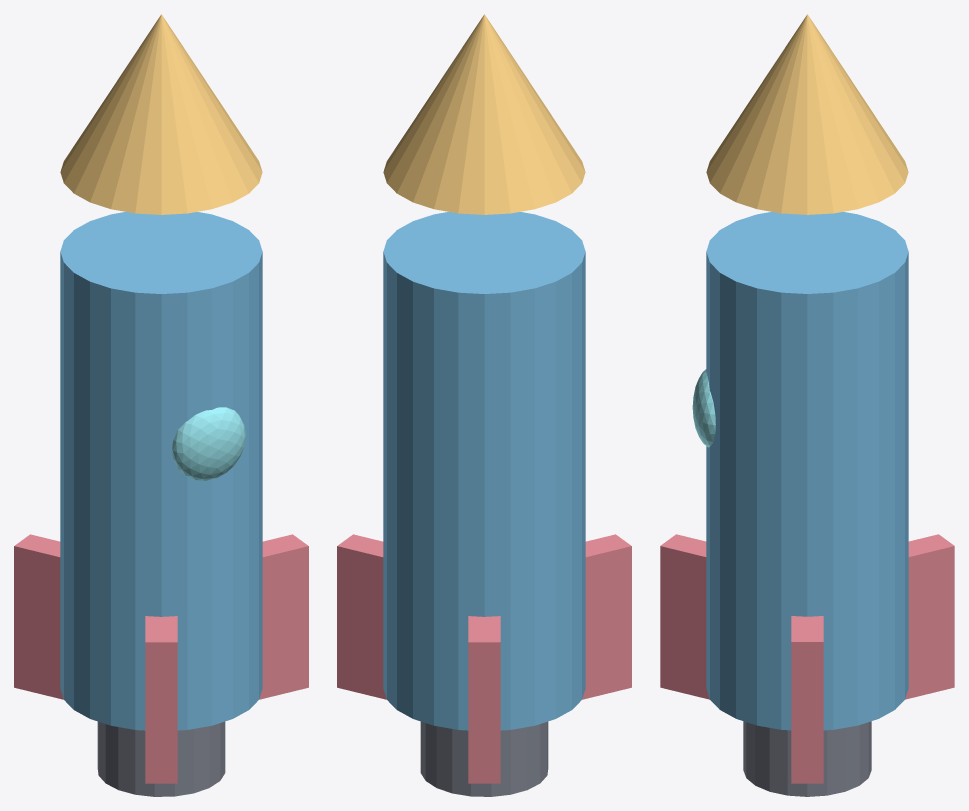
The model's file is space-rocket.glb.
3 views of the same model, side by side, from view 1: azimuth 30°, elevation 25°; view 2: azimuth 150°, elevation 25°; view 3: azimuth 270°, elevation 25° (orthographic).
Parts seen in each view (by area): view 1: Rocket_Body, Rocket_Nose, Rocket_Fin_1, Rocket_Fin_2, Rocket_Nozzle, Rocket_Fin_3, Cockpit_Window; view 2: Rocket_Body, Rocket_Nose, Rocket_Fin_1, Rocket_Fin_3, Rocket_Nozzle, Rocket_Fin_2; view 3: Rocket_Body, Rocket_Nose, Rocket_Fin_2, Rocket_Fin_3, Rocket_Nozzle, Rocket_Fin_1, Cockpit_Window.
Part boxes in pixels (left/top/right/bottom): Rocket_Body: left=60, top=212, right=262, bottom=730; Rocket_Nose: left=60, top=14, right=262, bottom=214; Rocket_Fin_1: left=259, top=534, right=308, bottom=699; Rocket_Fin_2: left=14, top=534, right=63, bottom=699; Rocket_Nozzle: left=97, top=721, right=225, bottom=796; Rocket_Fin_3: left=145, top=616, right=177, bottom=783; Cockpit_Window: left=172, top=407, right=245, bottom=480; Rocket_Body: left=383, top=212, right=585, bottom=730; Rocket_Nose: left=383, top=14, right=585, bottom=214; Rocket_Fin_1: left=337, top=534, right=386, bottom=699; Rocket_Fin_3: left=582, top=534, right=631, bottom=699; Rocket_Nozzle: left=420, top=721, right=548, bottom=796; Rocket_Fin_2: left=468, top=616, right=500, bottom=783; Rocket_Body: left=706, top=212, right=908, bottom=730; Rocket_Nose: left=706, top=14, right=908, bottom=214; Rocket_Fin_2: left=905, top=534, right=954, bottom=699; Rocket_Fin_3: left=660, top=534, right=709, bottom=699; Rocket_Nozzle: left=743, top=721, right=871, bottom=796; Rocket_Fin_1: left=791, top=616, right=823, bottom=783; Cockpit_Window: left=692, top=369, right=715, bottom=447.
Bounding box in the file's own units: 0.57 × 1.82 × 0.6412.
